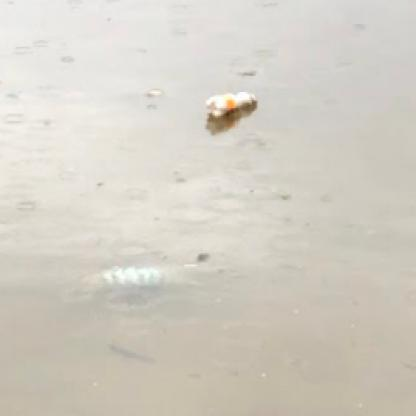plastic bottle: (206, 93, 257, 117)
